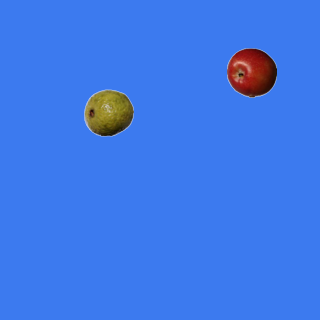Apple Braeburn: (226, 47, 276, 97)
Guava: (83, 87, 133, 137)
